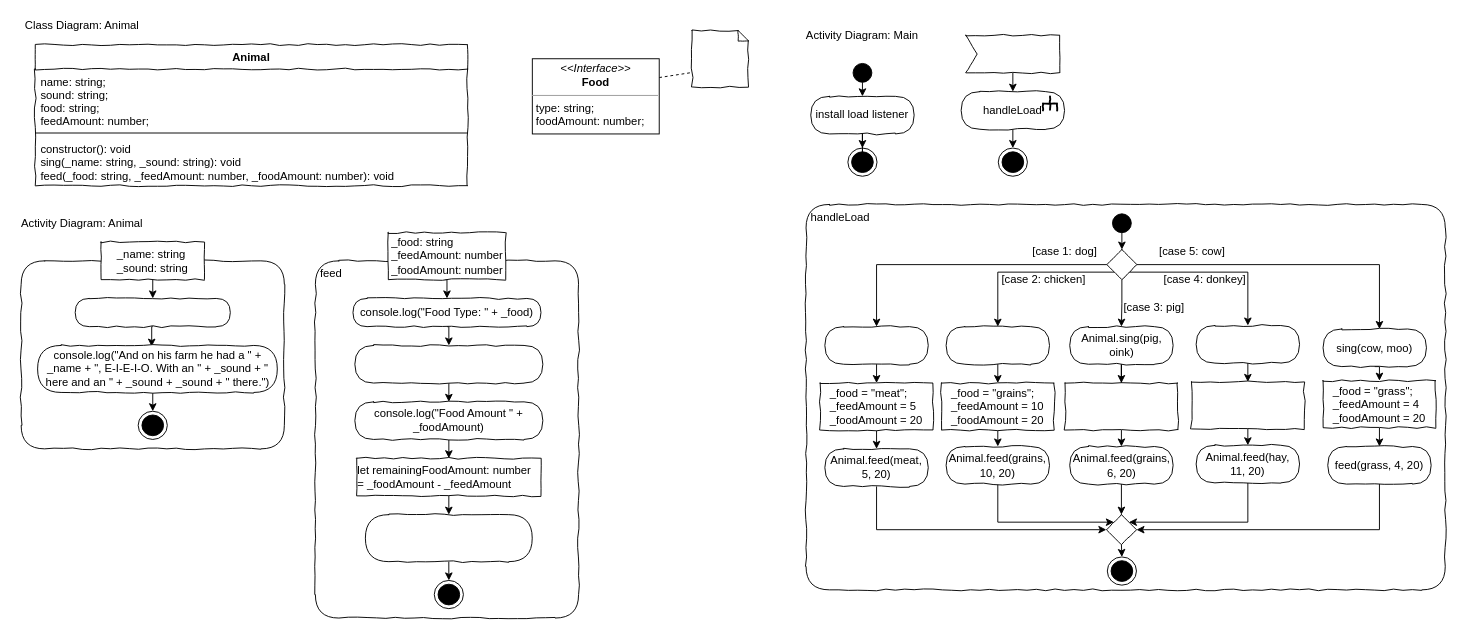
Image size: 1462x635. Some labels were removed from this diagram. Each missing label, with the box of its shape:
_food = "hay"; _feedAmount = 11 _foodAmount = 20: (1191, 381, 1304, 429)
_food = "junk"; _feedAmount = 6 _foodAmount = 20: (1064, 382, 1178, 430)
Animal.sing(chicken, gock): (945, 326, 1050, 364)
Animal.sing(dog, woof): (824, 326, 928, 364)
Animal.sing(donkey, hee haw): (1195, 325, 1300, 363)
console.log("Feed Amount " + _feedAmount): (354, 345, 543, 383)
console.log("Remaining Food Amount: " + remainingFoodAmount): (364, 514, 532, 562)
console.log("Überschrift: " + _name): (74, 298, 230, 327)
load: (965, 34, 1060, 73)
sing: (20, 260, 284, 449)
Vorrat Futter: (691, 30, 749, 87)
